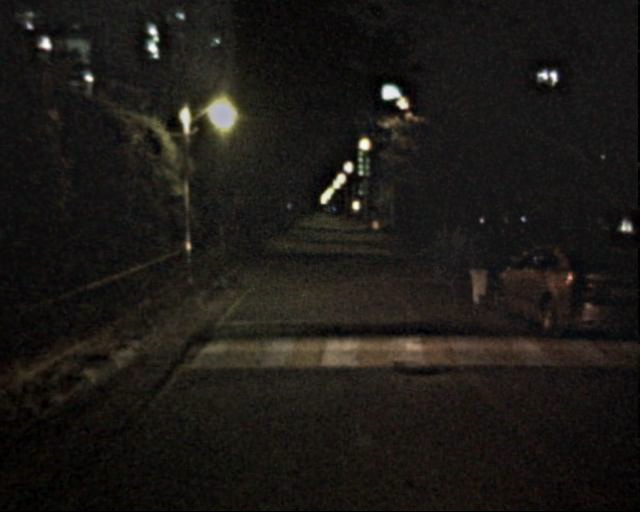person: (461, 226, 495, 309), (424, 224, 455, 289), (445, 223, 474, 290)
